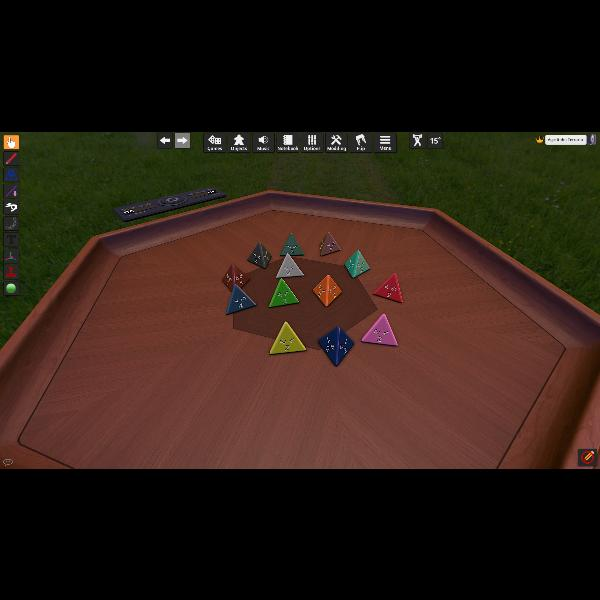d4: (317, 326, 351, 366), (270, 321, 306, 356), (362, 314, 397, 346), (226, 284, 256, 314), (373, 272, 402, 302), (270, 277, 298, 307), (314, 274, 340, 306), (344, 250, 370, 278), (276, 252, 304, 278), (222, 263, 248, 291), (248, 242, 272, 270), (280, 233, 302, 257), (320, 231, 340, 255)
